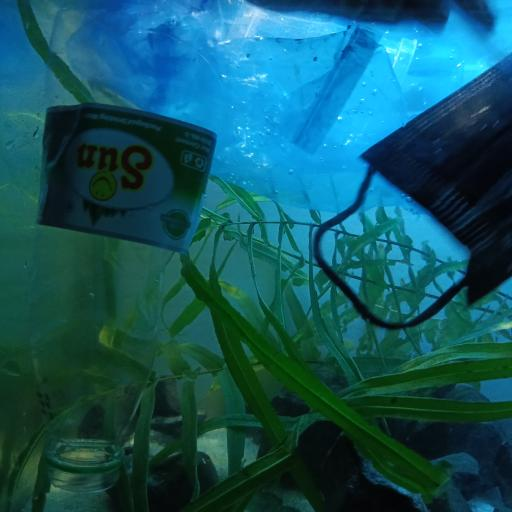mask: (313, 52, 512, 331)
plastic_bag: (2, 0, 512, 217)
plastic_bottle: (30, 1, 230, 489)
